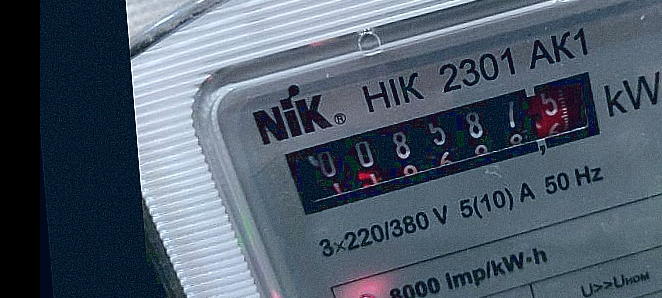0: (350, 133, 379, 169), (313, 144, 342, 178)
5: (425, 114, 450, 147), (537, 83, 561, 116)
6: (545, 118, 564, 136)
7: (499, 95, 523, 131)
8: (461, 105, 487, 140), (389, 126, 415, 160)
screen: (272, 67, 628, 217)
